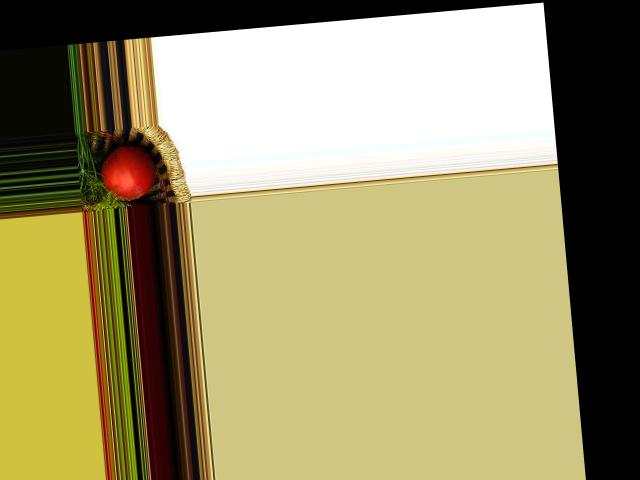tomato: (97, 143, 157, 202)
